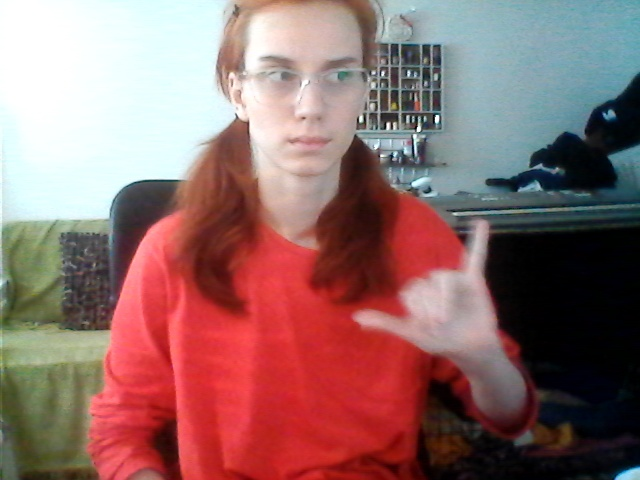kto: (338, 217, 511, 362)
